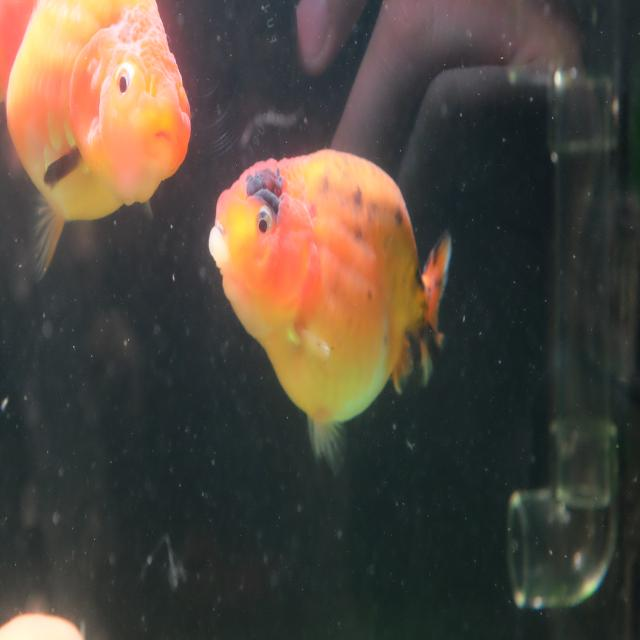Goldfish: (208, 147, 454, 476), (0, 0, 193, 282)
